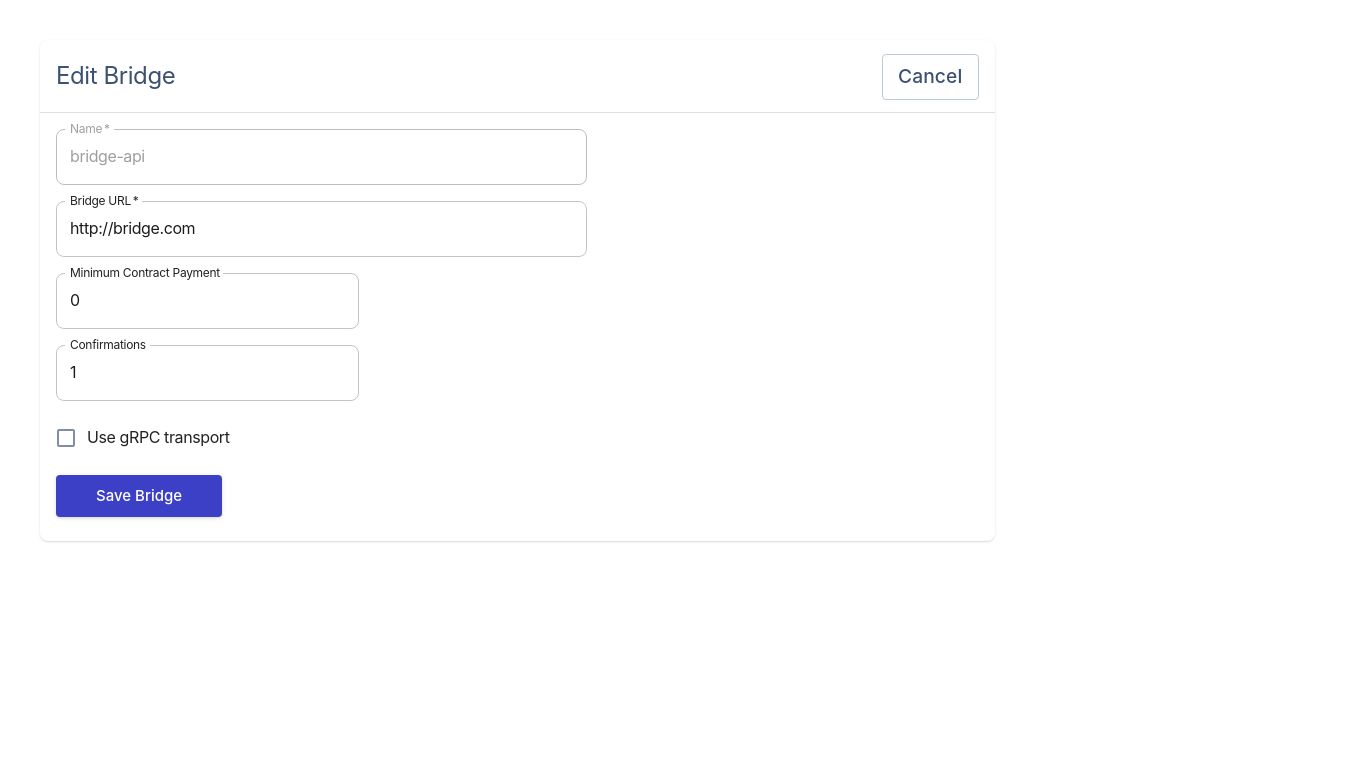
Scenario: EditBridgeScreen › updates a bridge
Expected: the text "Edit Bridge" is shown, [56,61,175,90]
Expected: the form with test id "bridge-form" is shown, [54,120,588,517]
Replace the text in the field labelled "Bridge URL *" with "https://www.test.com". click: (322, 229)
box: [56,201,588,257]
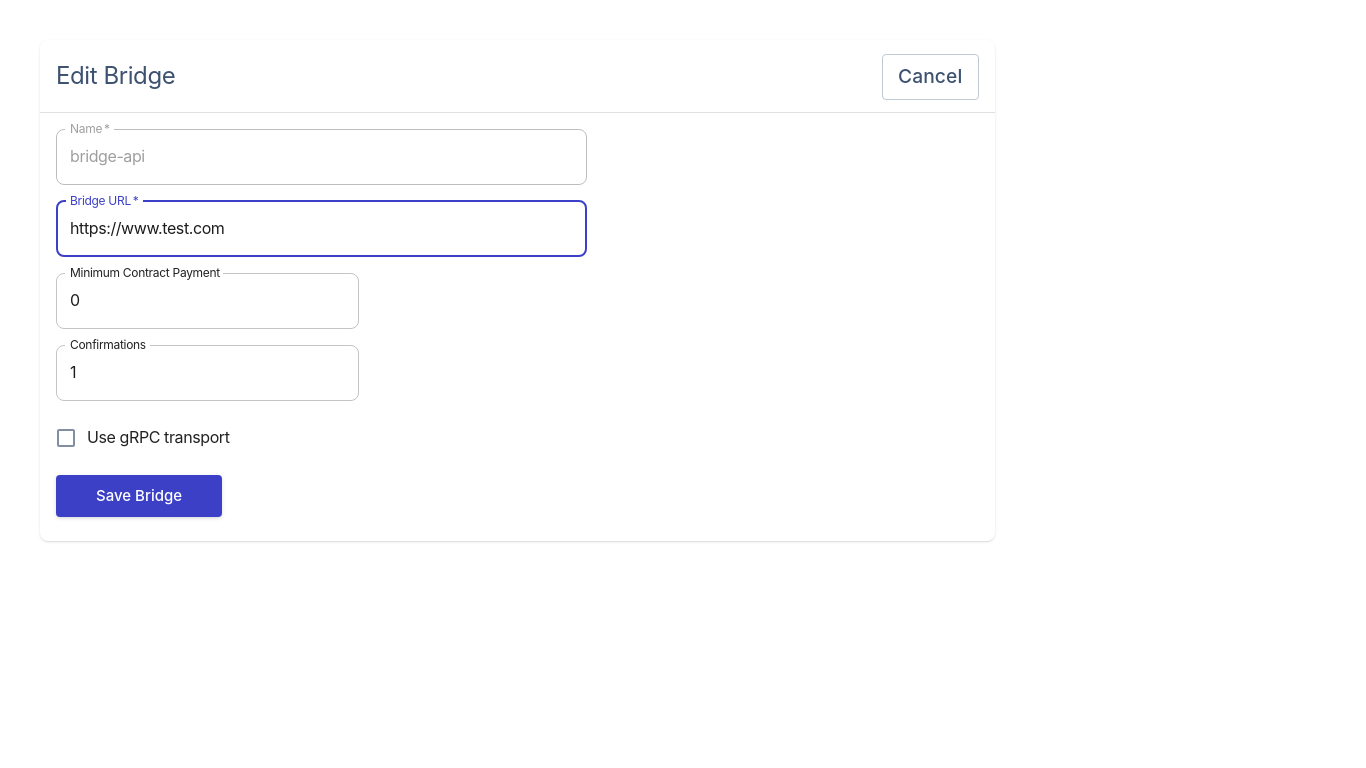
Type "1" into the field labelled "Minimum Contract Payment". click: (208, 301)
box: [56,273,359,329]
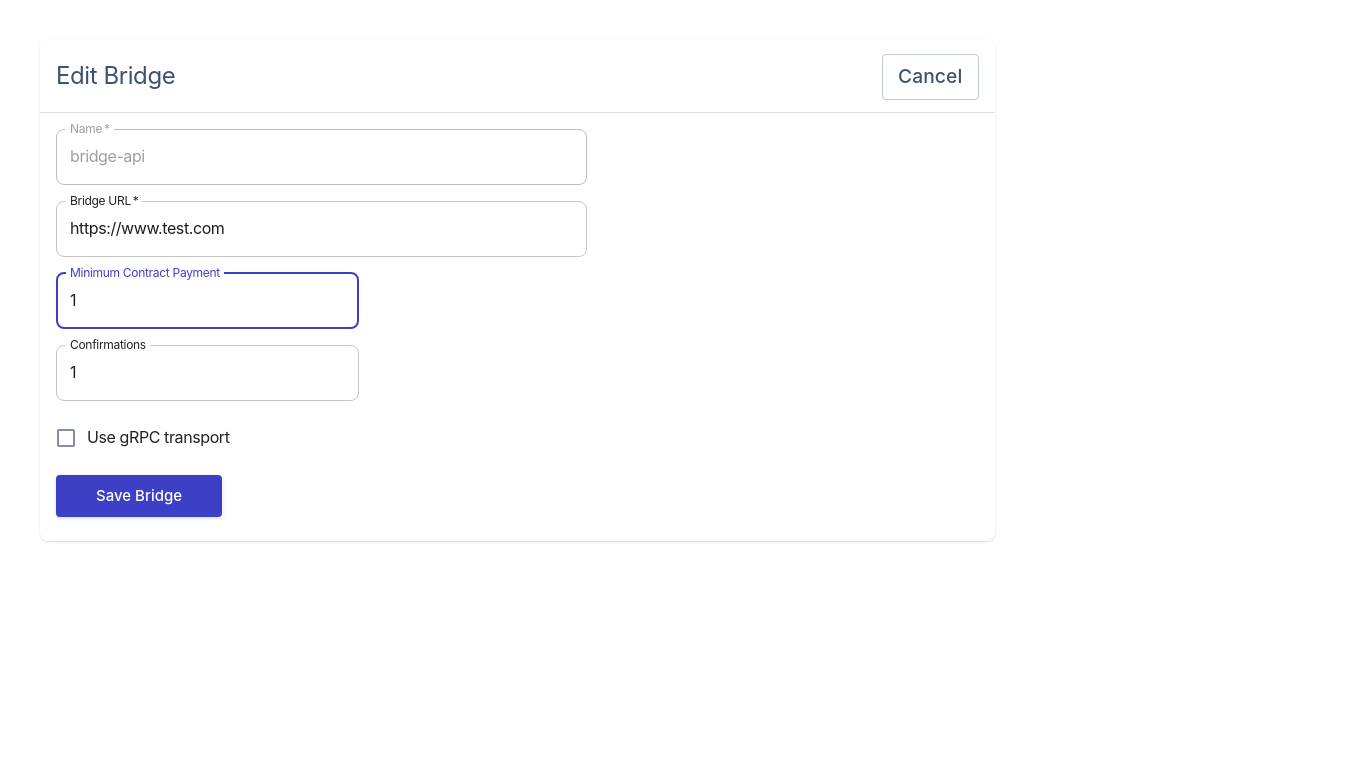
Type "0" into the number field labelled "Confirmations". click: (208, 373)
box: [56,345,359,401]
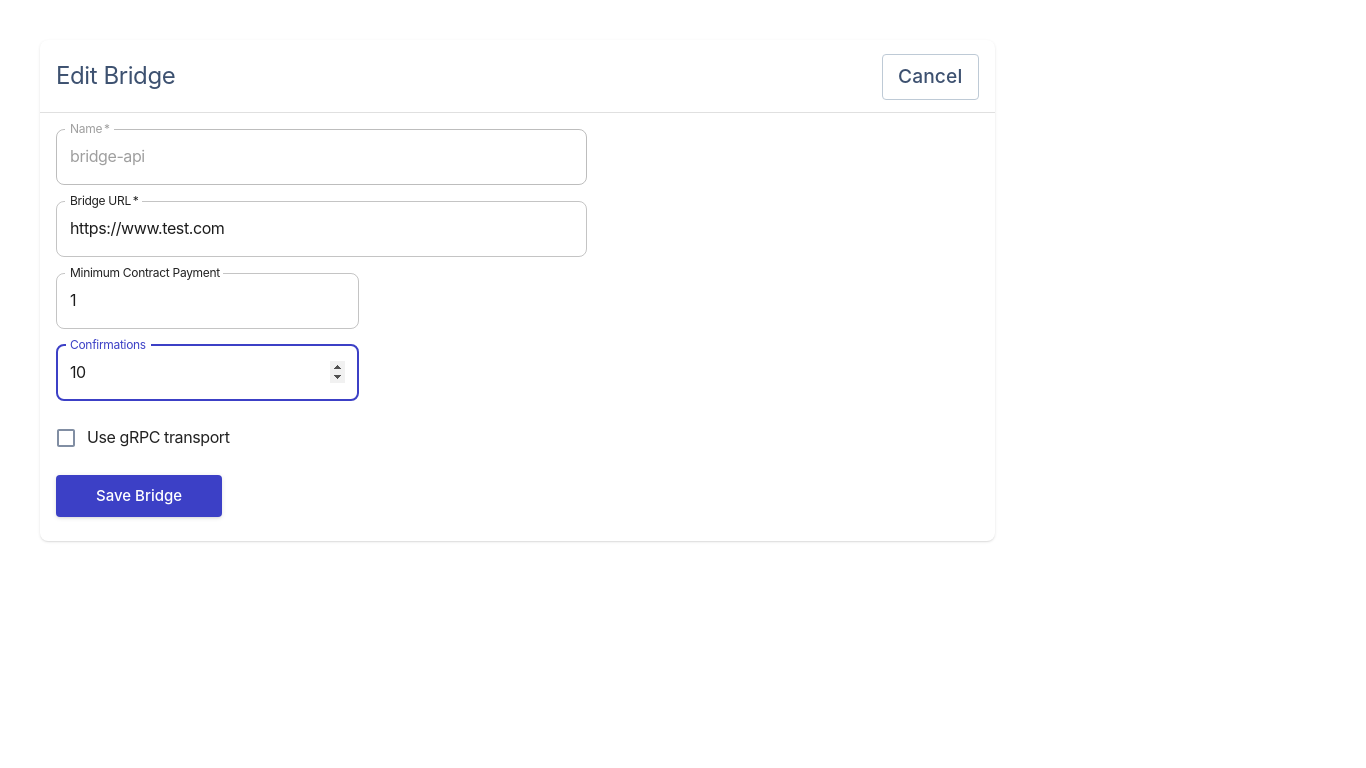
Click the button "Save Bridge". click: (139, 496)
box: [56,475,222,517]
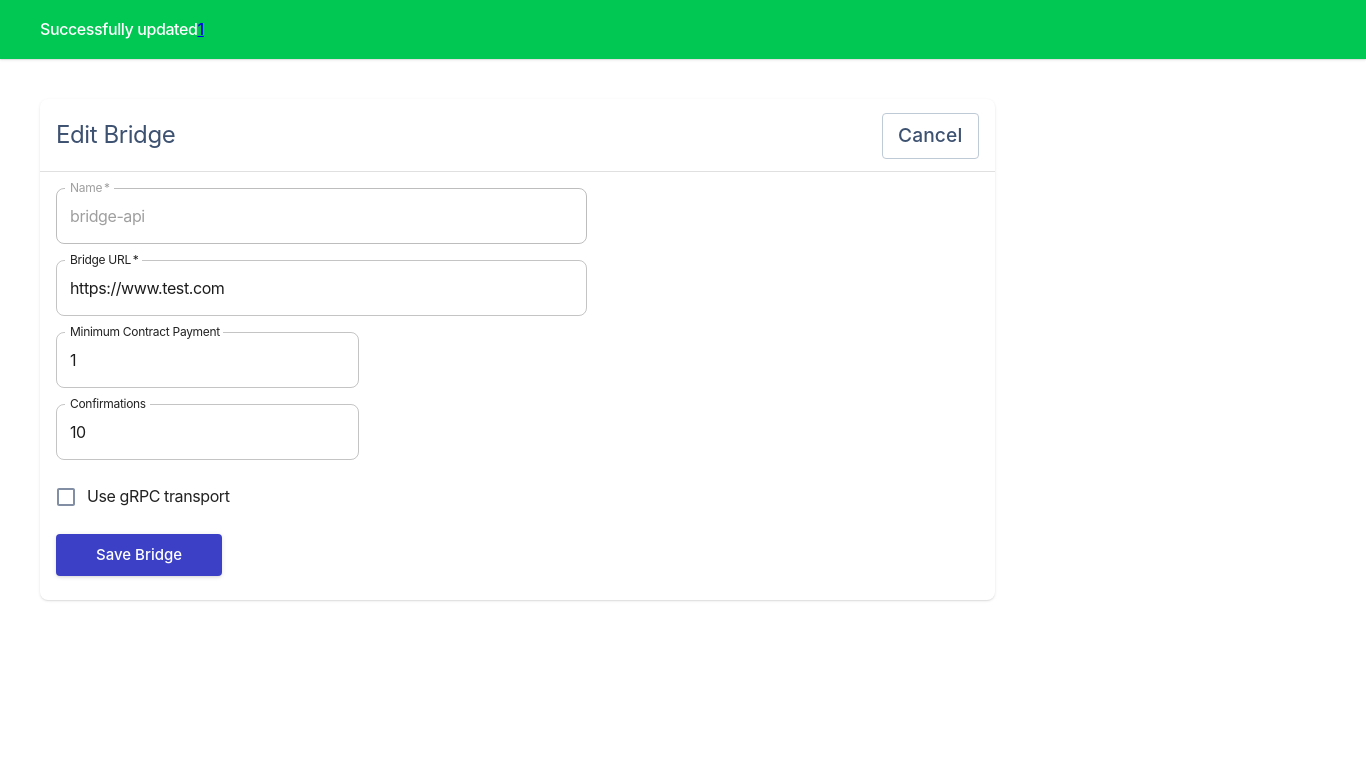
Expected: the text "Successfully updated" is shown, [40,19,198,39]
